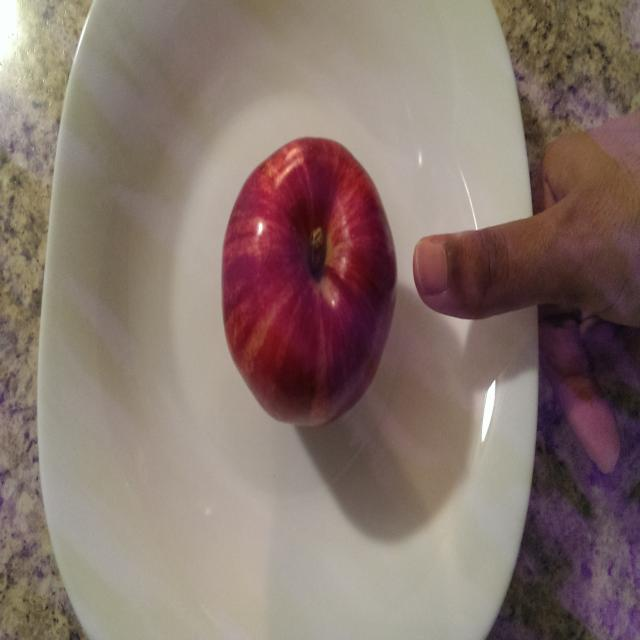apple: (211, 134, 404, 438)
